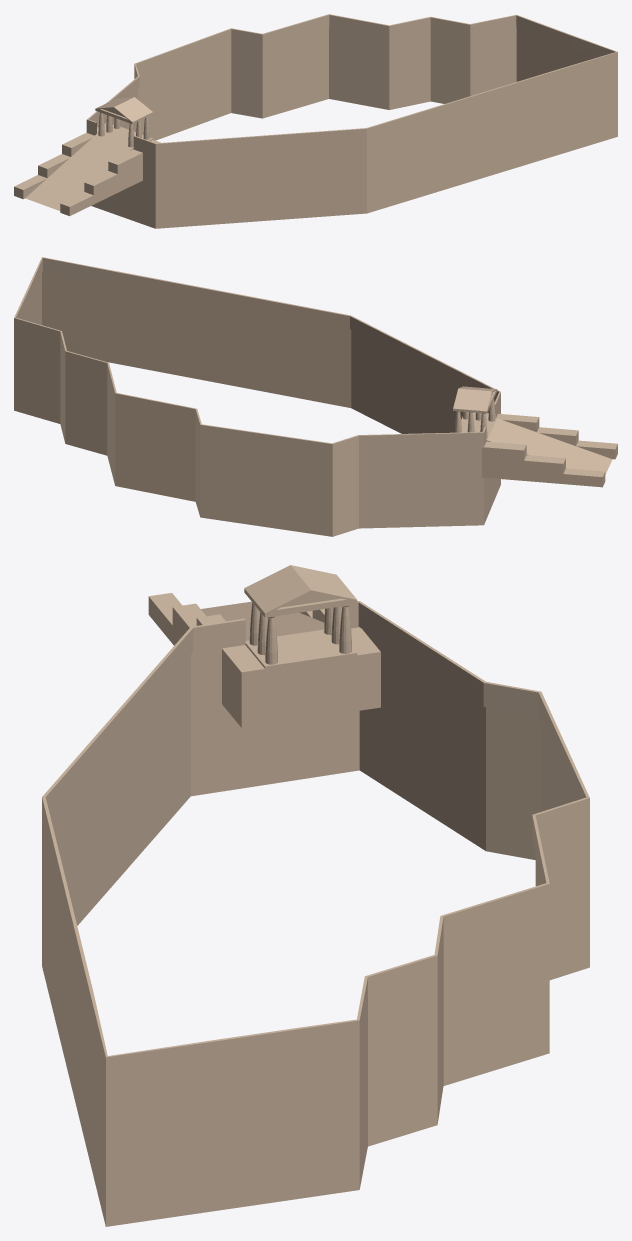
File: AkropolisEingangUndHauptmauer.fbx
3 renders of one model, top to bottom at view 1: azimuth 30°, elevation 25°; view 2: azimuth 150°, elevation 25°; view 3: azimuth 270°, elevation 25°, orthographic. The views are drawn at different scales.
Parts seen in each view (by area): view 1: AkropolisRandObenUndEingang; view 2: AkropolisRandObenUndEingang; view 3: AkropolisRandObenUndEingang.
Part boxes in pixels (<box>): AkropolisRandObenUndEingang: <box>14,14,617,228</box>; AkropolisRandObenUndEingang: <box>14,257,617,536</box>; AkropolisRandObenUndEingang: <box>42,565,589,1226</box>.
Size of the model in its own units: 361 by 66.35 by 153.
